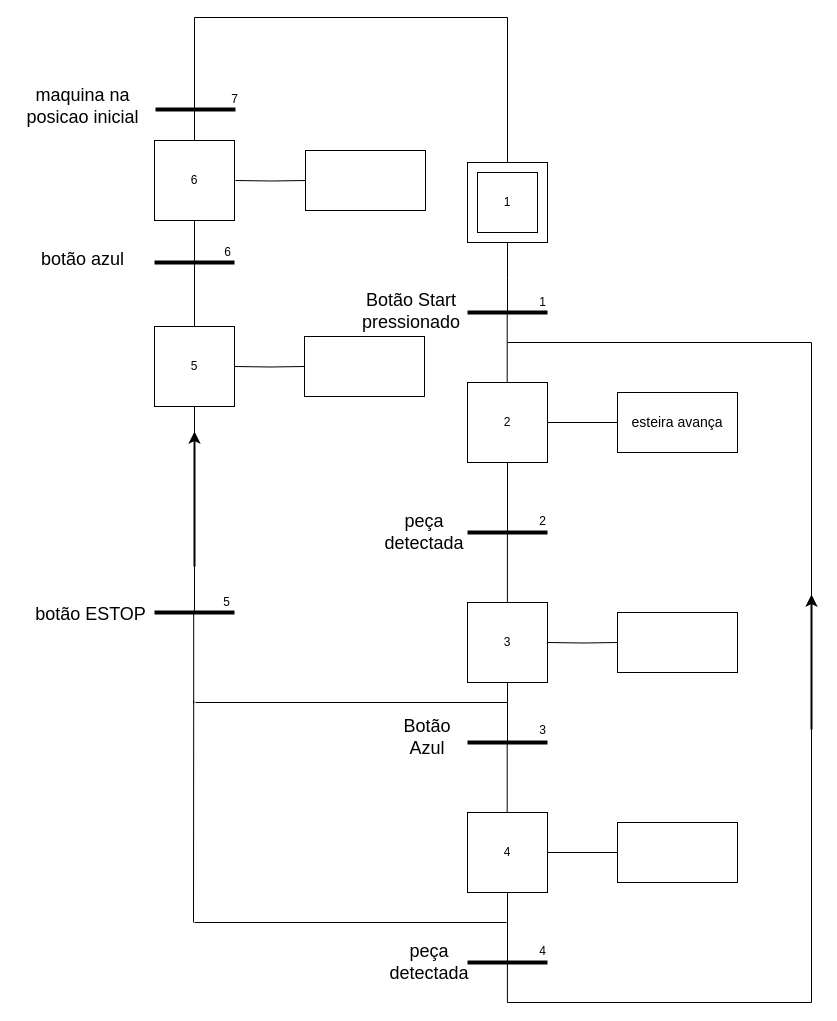
This 837x1021 diagram has some shape labels left out. Here are the shapes that lost their labels. From the top down, the centre of each, then its label:
At [365,180]: "retorno da máquina".
At [364,366]: "tudo para botão azul pisca".
At [677,642]: "braço pega a peça e coloca na estação".
At [677,852]: "braço retira a peça da estação".
